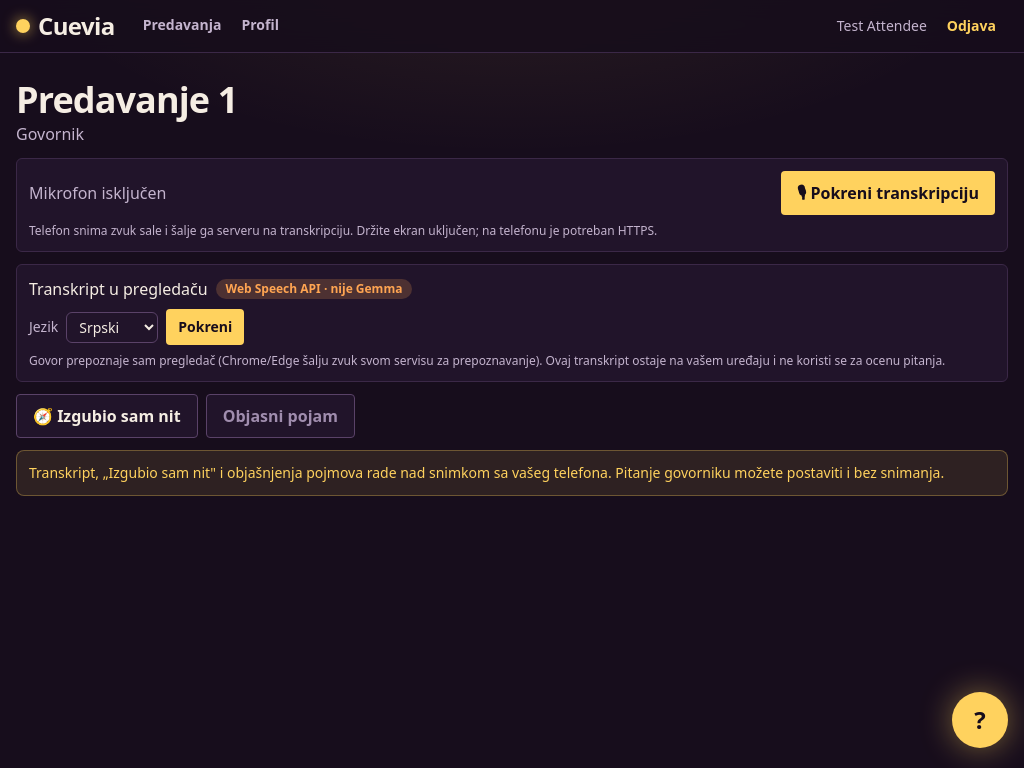
Test: question drawer › handles 409 QUESTION_LIMIT_REACHED without losing the text
Step 1. Click the button named "Postavi pitanje" → (980, 720), box x1=952 y1=692 x2=1008 y2=748
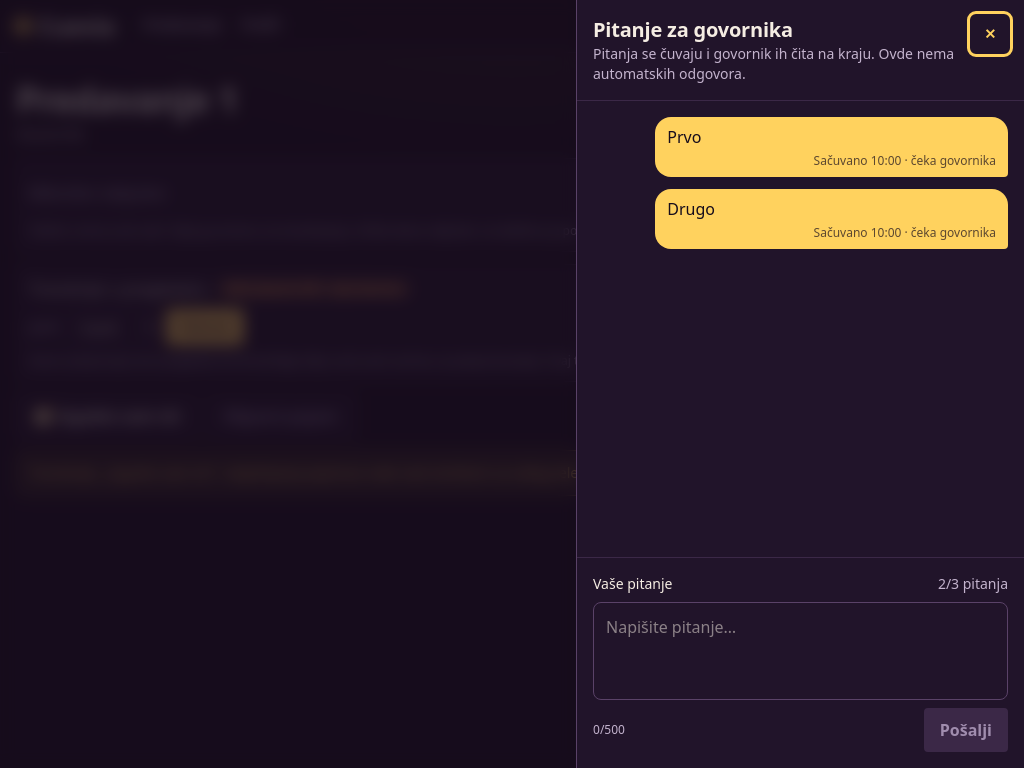
Check: the text "2/3 pitanja" is shown, box x1=938 y1=574 x2=1008 y2=594
Step 2. Type "Treće pitanje" into the text box labelled "Vaše pitanje" → (800, 651), box x1=593 y1=602 x2=1008 y2=700
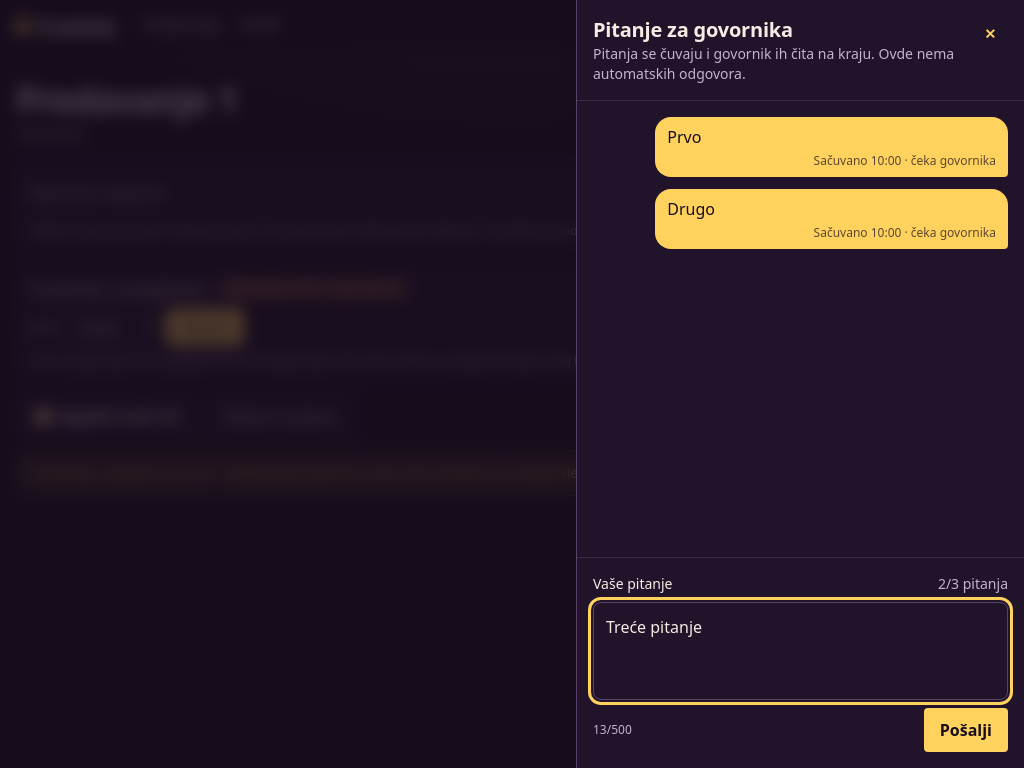
Step 3. Click the button "Pošalji" → (966, 730), box x1=924 y1=708 x2=1008 y2=752
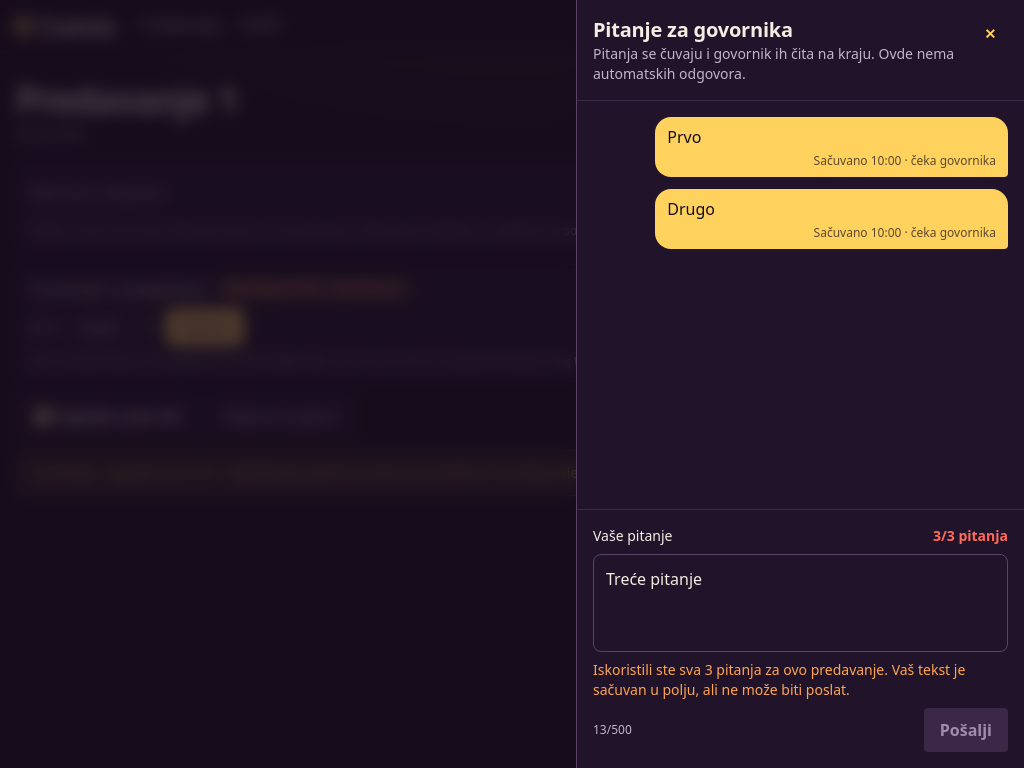
Check: the text "Iskoristili ste sva 3 pitanja" is shown, box x1=593 y1=660 x2=965 y2=699
Check: the text "3/3 pitanja" is shown, box x1=933 y1=526 x2=1008 y2=546
Check: the button "Pošalji" is disabled, box x1=924 y1=708 x2=1008 y2=752
